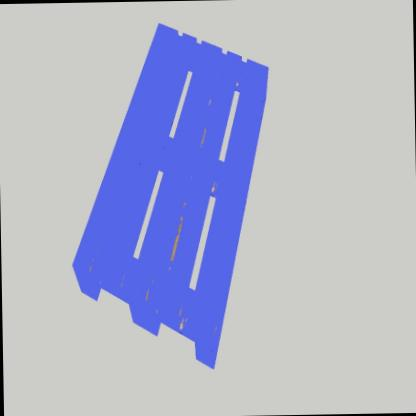BoxFace: (69, 15, 275, 377)
